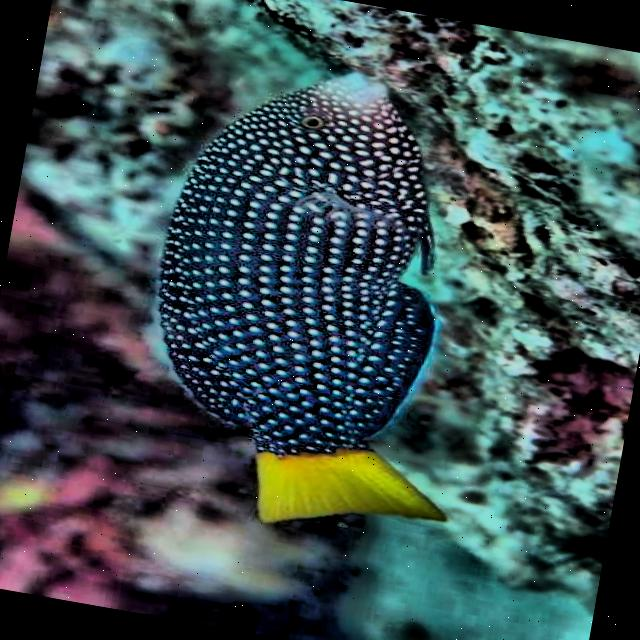fish: (113, 42, 520, 554)
